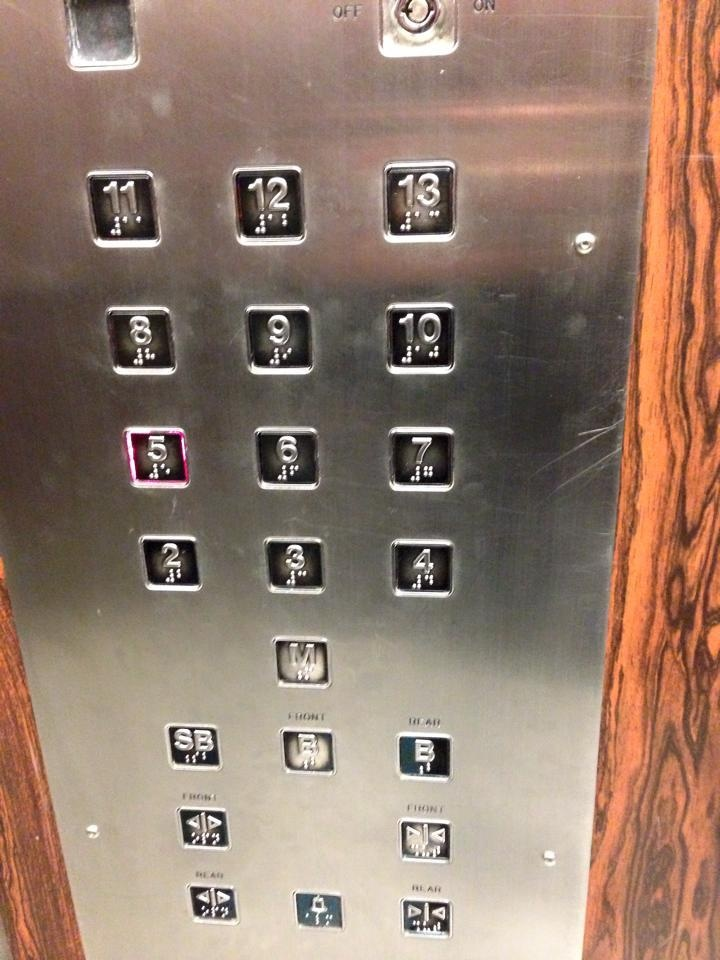10: (382, 300, 457, 376)
11: (84, 169, 163, 247)
12: (231, 166, 306, 245)
13: (381, 161, 459, 241)
2: (135, 535, 204, 593)
3: (263, 537, 324, 595)
4: (389, 537, 454, 598)
5: (122, 425, 192, 489)
6: (254, 424, 322, 490)
7: (386, 424, 457, 493)
8: (106, 304, 177, 373)
9: (242, 302, 317, 374)
B: (395, 733, 455, 783), (281, 727, 336, 775)
M: (271, 635, 333, 689)
SB: (164, 722, 223, 772)
alarm: (293, 889, 345, 930)
close: (397, 817, 455, 864), (401, 897, 454, 939)
empty: (63, 1, 142, 74)
keyhole: (373, 1, 460, 61)
open: (185, 881, 241, 927), (175, 806, 232, 851)
